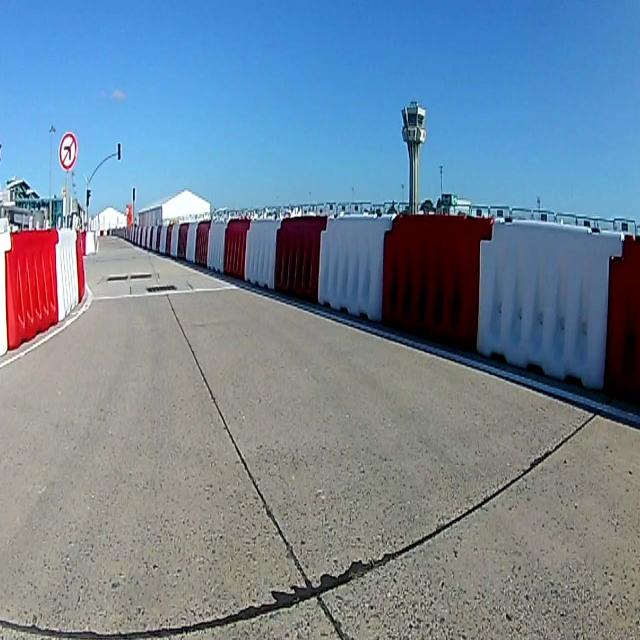soladonulmez: (58, 132, 78, 170)
